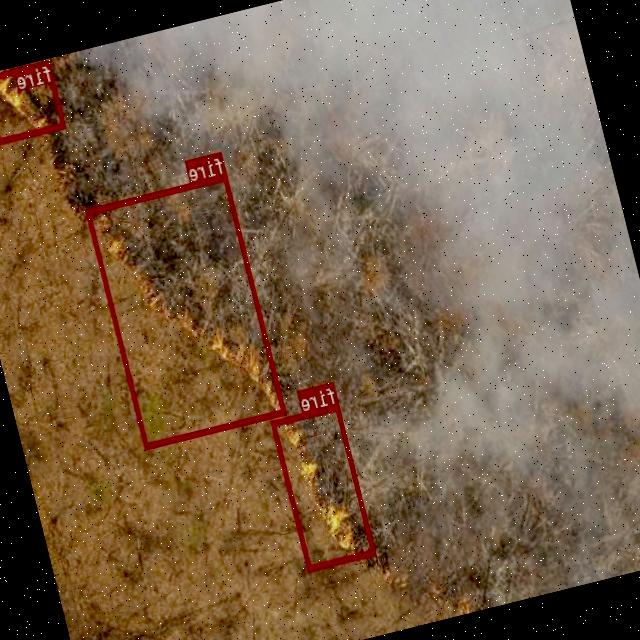fire: (86, 172, 287, 448), (270, 402, 376, 570), (0, 58, 67, 143)
